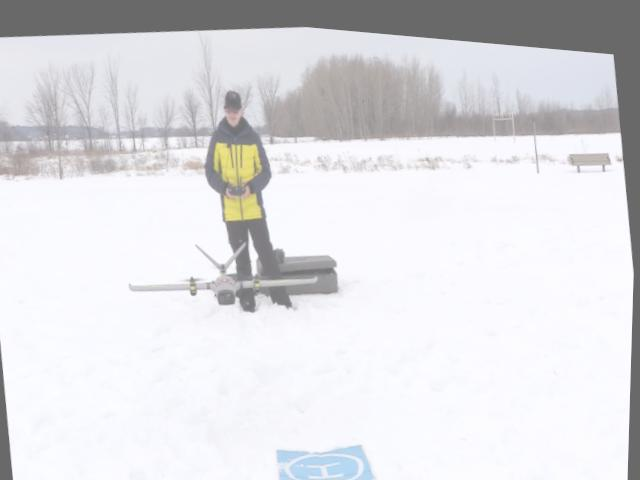plane: (126, 222, 322, 320)
